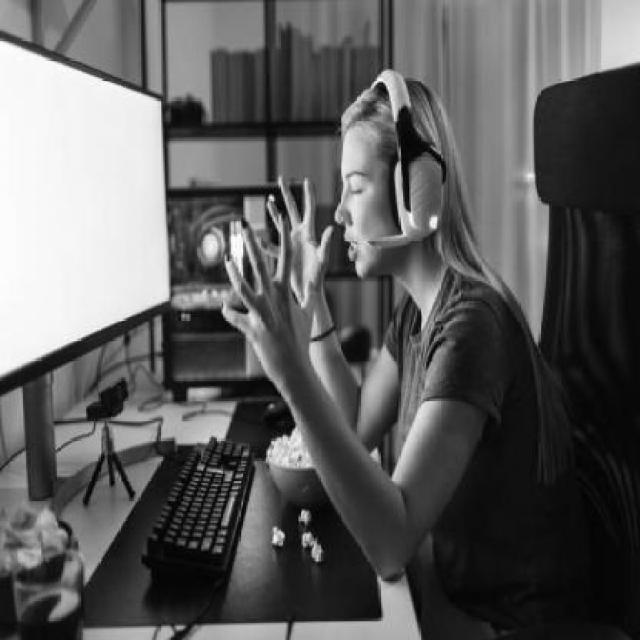angry: (330, 154, 368, 268)
